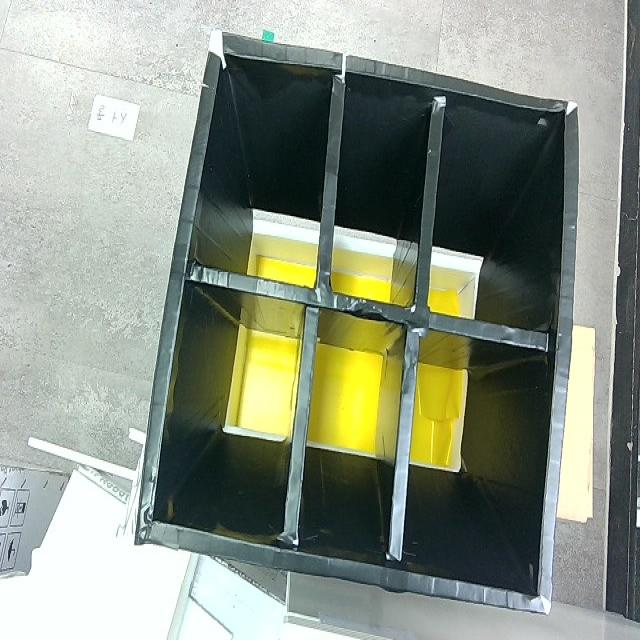box: (127, 23, 580, 628)
